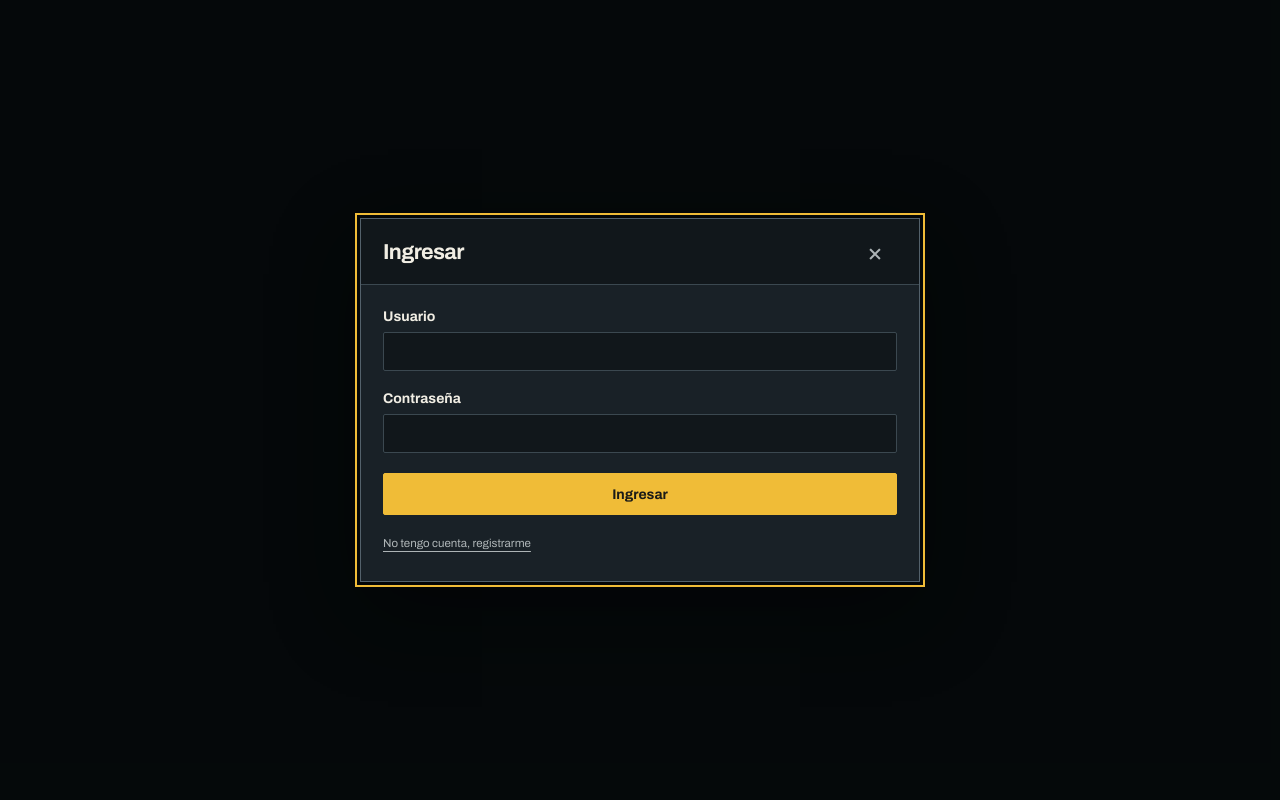
Test: diálogos › AuthDialog expone el error devuelto por la API
In the field labelled "Usuario": [640, 352] box [383,332,897,371], type "ana"
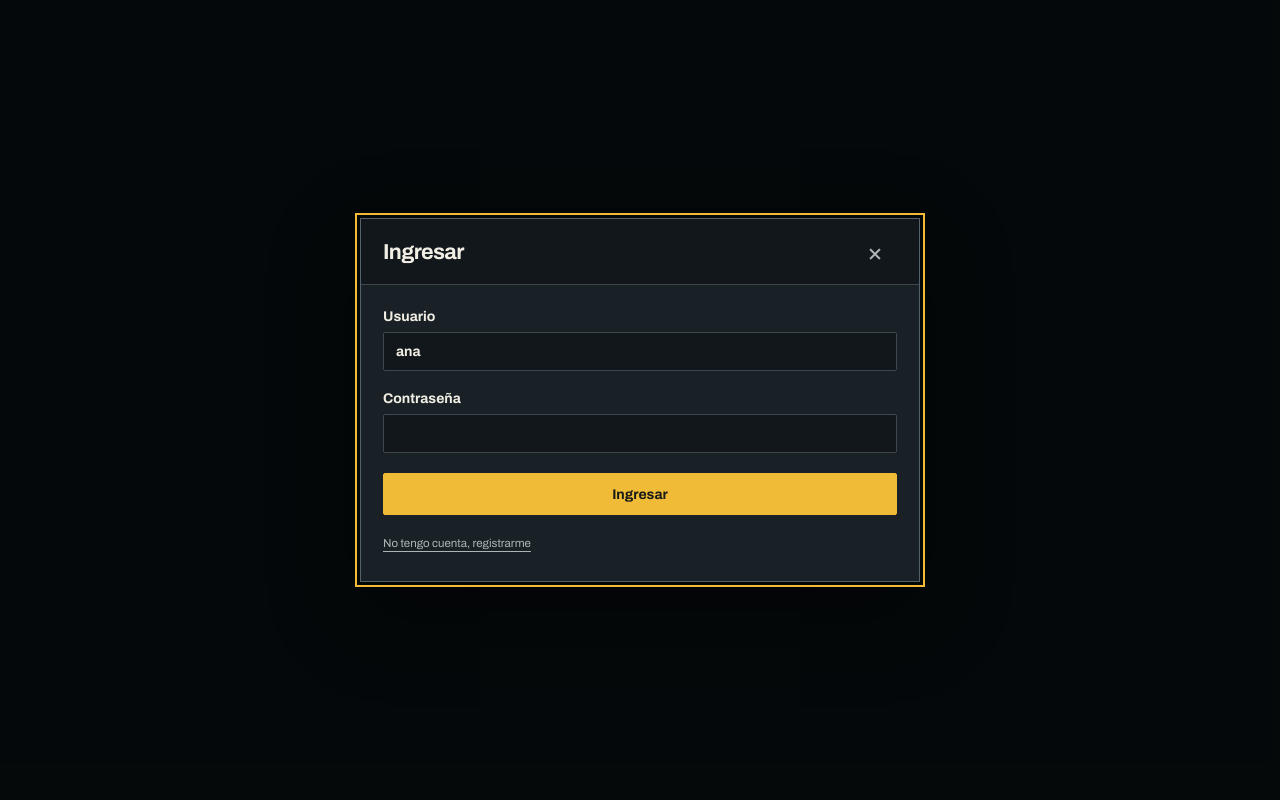
In the password field labelled "Contraseña": [640, 434] box [383,414,897,453], type "incorrecta"
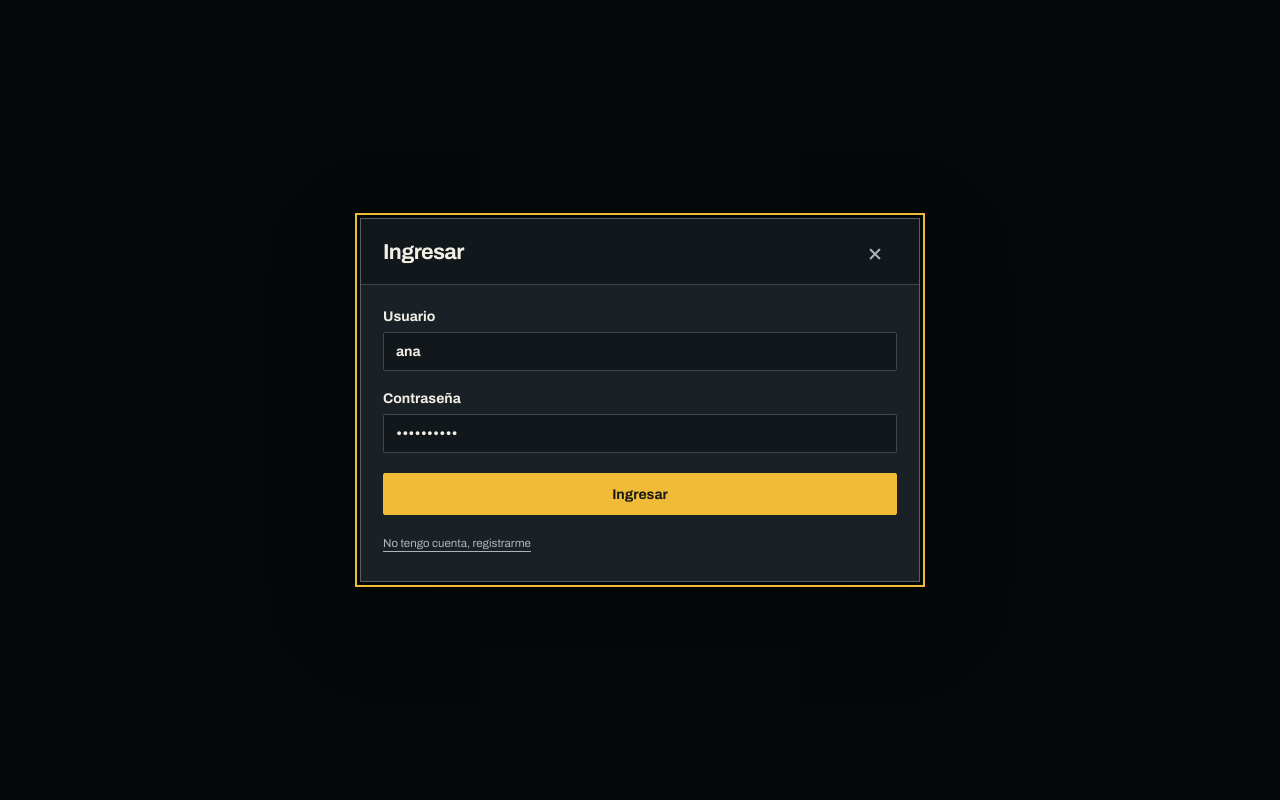
Click the button "Ingresar": [640, 494] box [383,473,897,515]
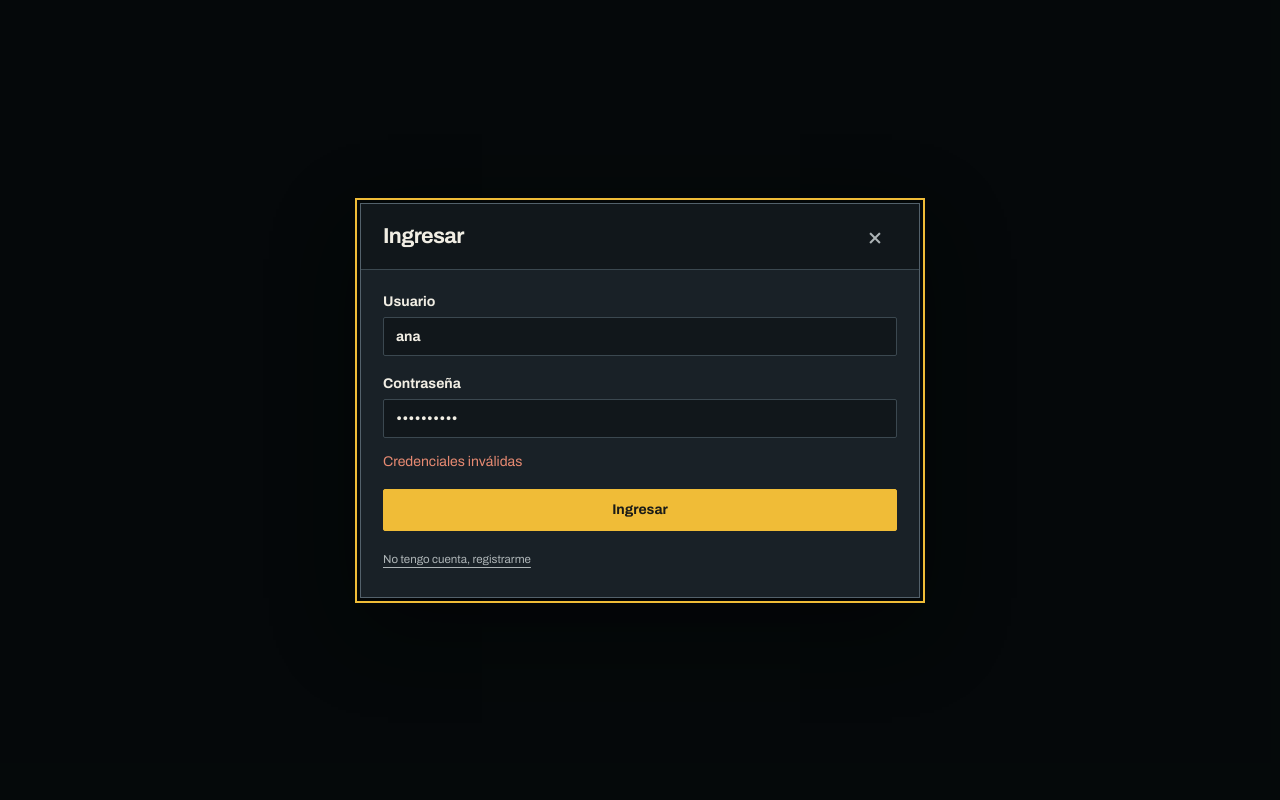
expect the message reads "Credenciales inválidas": met, box [383,454,522,468]
